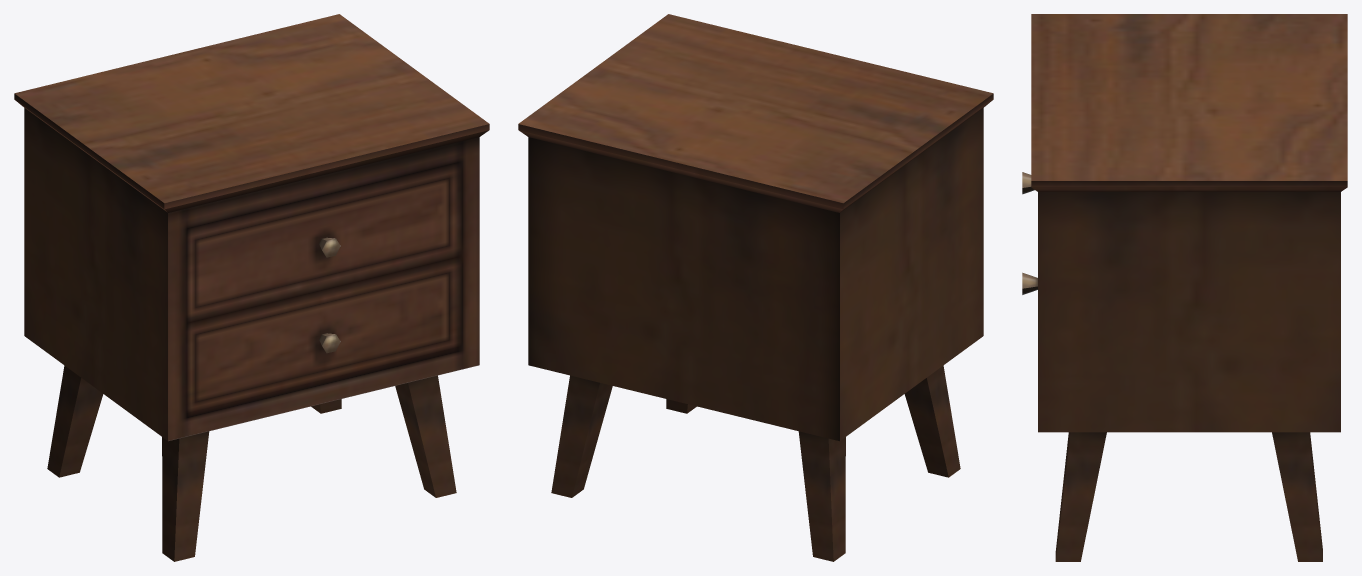
The model's file is Criado_Mudo_psx.fbx.
The picture shows the model from 3 angles, left to right: view 1: azimuth 30°, elevation 25°; view 2: azimuth 150°, elevation 25°; view 3: azimuth 270°, elevation 25°; orthographic projection. The views are drawn at different scales.
Visible parts, largest first — view 1: Cylinder.001; view 2: Cylinder.001; view 3: Cylinder.001.
Boxes of the visible parts, bbox=[...] form: Cylinder.001: bbox=[14, 14, 489, 561]; Cylinder.001: bbox=[518, 14, 993, 561]; Cylinder.001: bbox=[1022, 14, 1347, 561].
Size of the model in its own units: 52.2 by 57.1 by 42.94.
